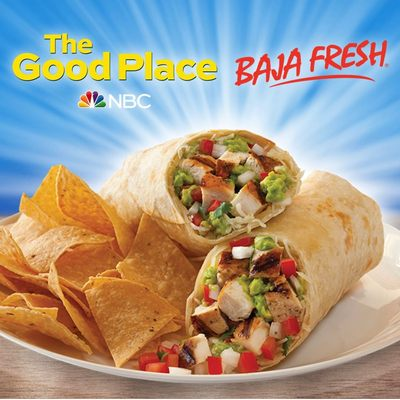curry: (259, 168, 292, 204)
soup: (181, 168, 386, 371), (84, 276, 184, 370)
